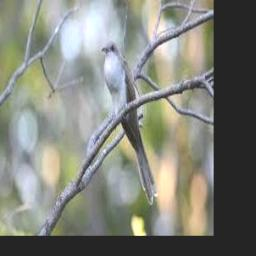Cuckoo: (101, 40, 158, 204)
